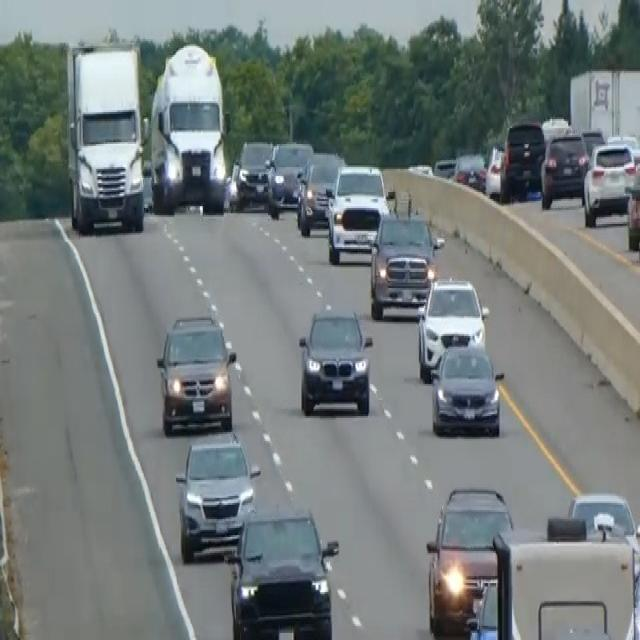car: (224, 507, 339, 638), (425, 484, 513, 634), (174, 430, 260, 562), (155, 311, 237, 436), (297, 306, 373, 416), (368, 208, 442, 320), (416, 274, 489, 380), (430, 340, 504, 438), (325, 162, 390, 263), (566, 489, 639, 576), (582, 138, 637, 225), (295, 149, 344, 235), (539, 130, 589, 208), (499, 117, 545, 199), (265, 139, 313, 217), (235, 137, 273, 206), (465, 576, 501, 638), (624, 153, 639, 251), (452, 149, 486, 192), (484, 141, 507, 199), (224, 154, 243, 210), (433, 154, 456, 180)
lorry: (64, 35, 147, 233), (149, 41, 231, 213)
truck: (466, 516, 639, 638)
